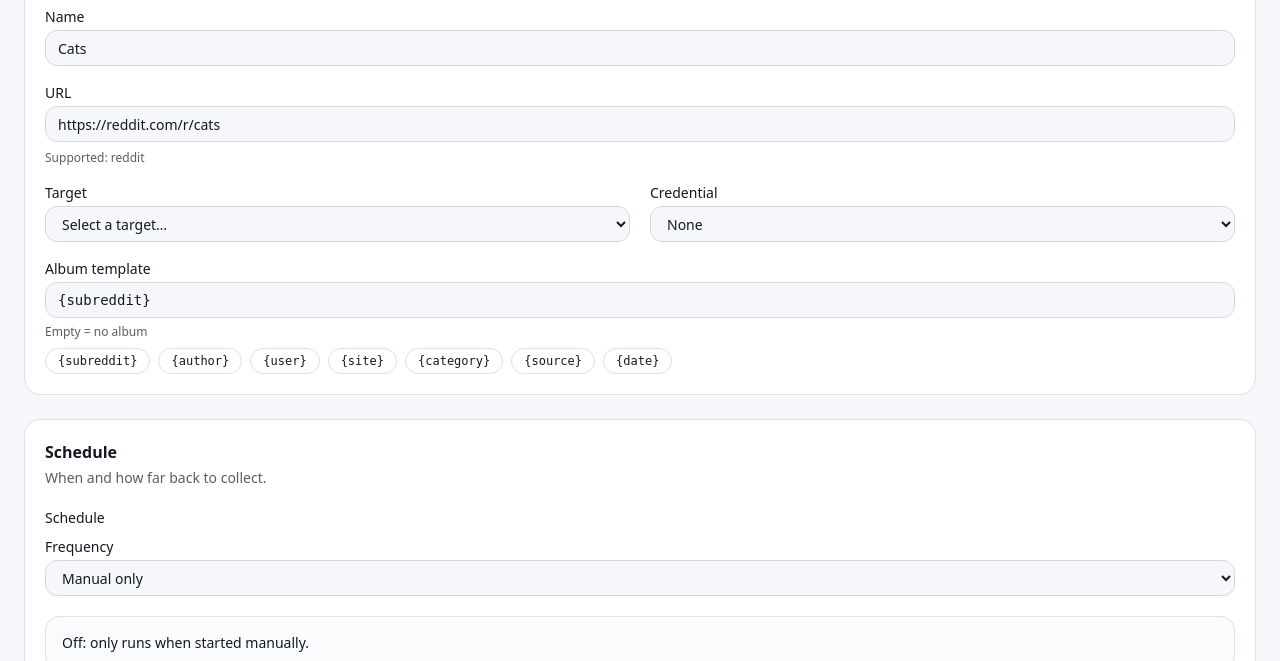
Scenario: SourceForm › server 422 on schedule_cron shows under cron field
The width and height of the screenshot is (1280, 661).
Step 1. Select "Hourly" in the dropdown labelled "Frequency" → (640, 578), box [45, 560, 1235, 596]
(page scrolled)
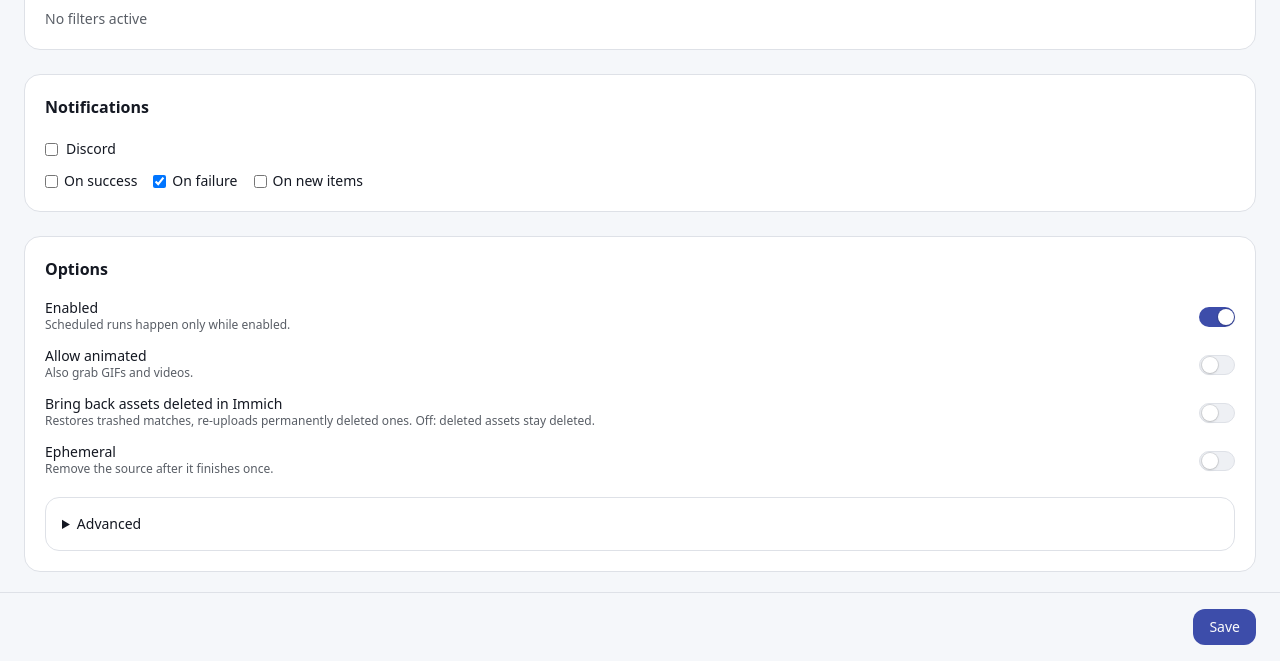
Step 2. Click the button "Save" → (1225, 627), box [1193, 609, 1256, 645]
(page scrolled)
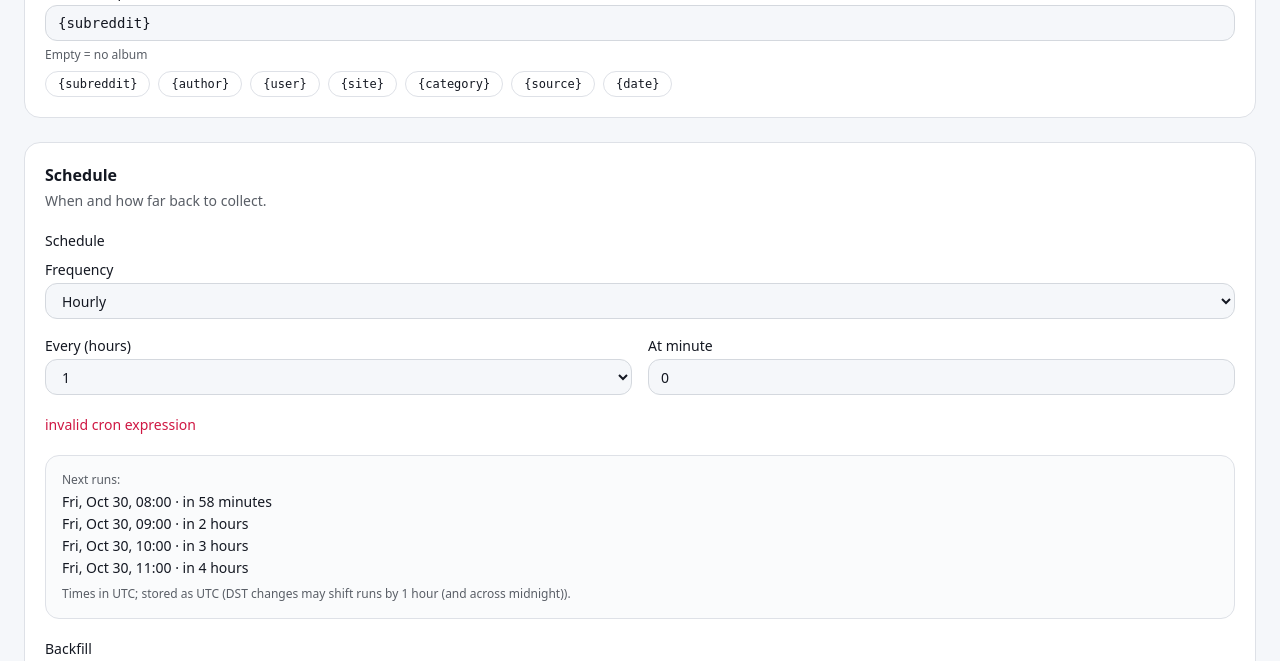
Now the text "invalid cron expression" is shown, box [45, 415, 196, 434]
